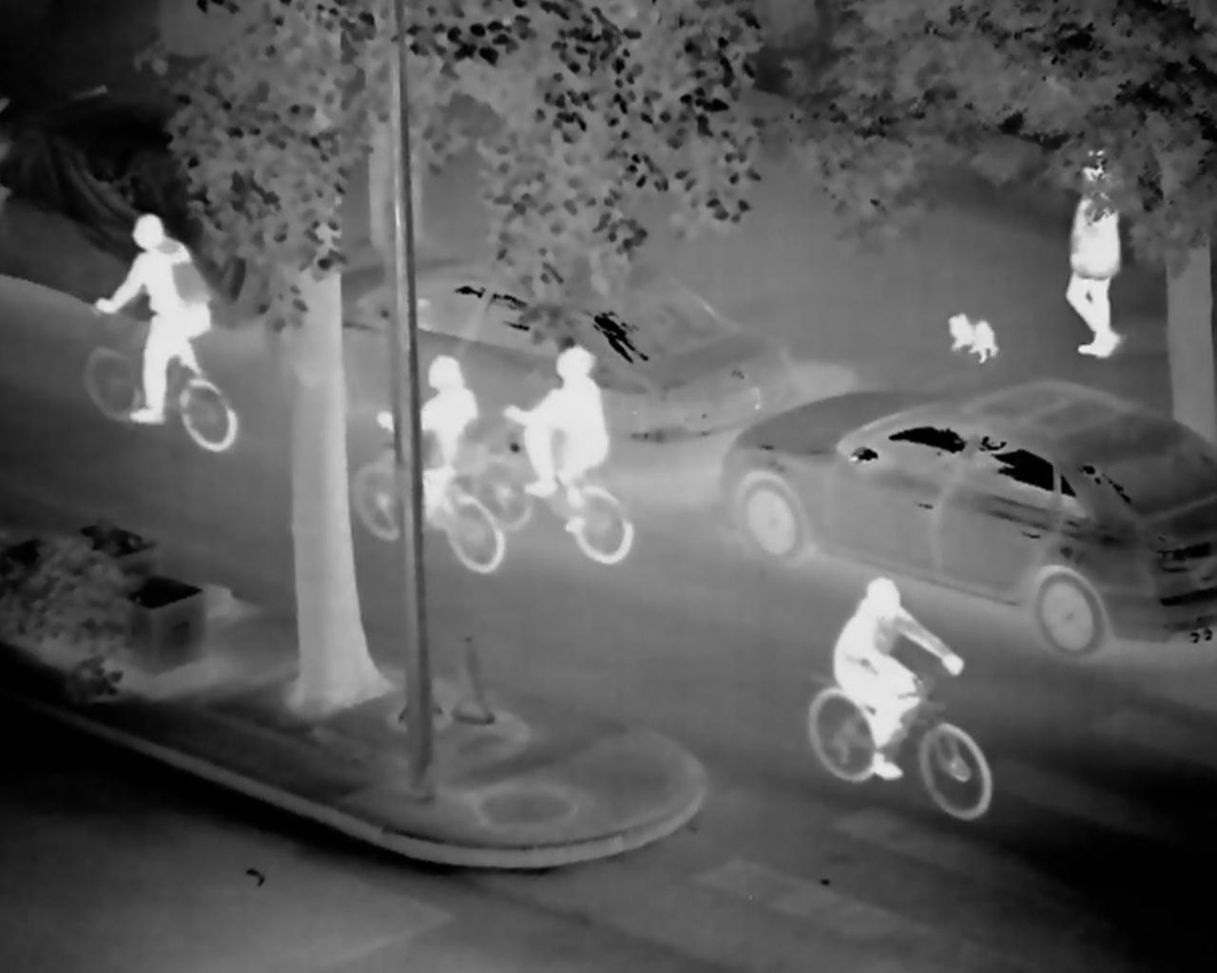person: (822, 572, 966, 789), (92, 216, 221, 440), (373, 349, 483, 516), (1049, 151, 1132, 372), (509, 341, 614, 495)
